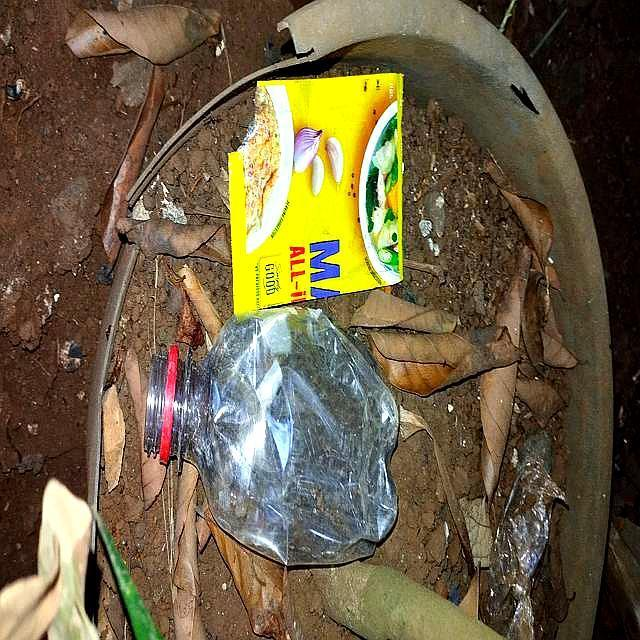Non-biodegradable: (149, 311, 397, 569), (228, 72, 406, 317)
